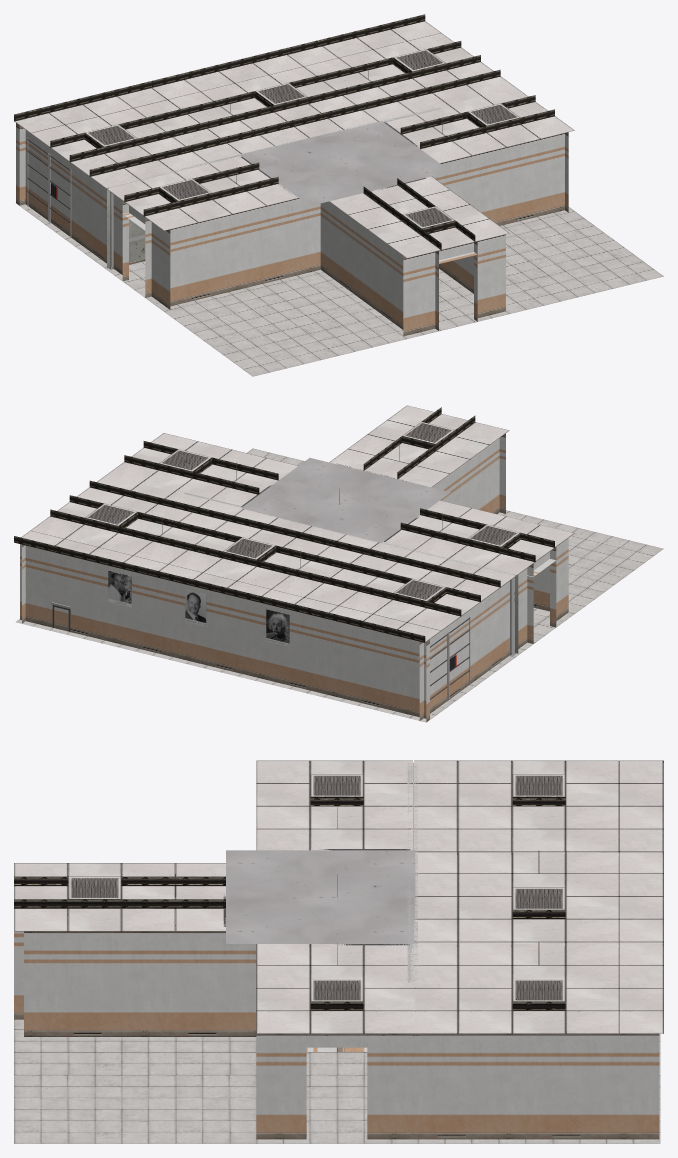
The model's file is OZ_room3_offices.obj.
3 renders of one model, top to bottom at view 1: azimuth 30°, elevation 25°; view 2: azimuth 150°, elevation 25°; view 3: azimuth 270°, elevation 25°, orthographic. The views are drawn at different scales.
Visible parts, largest first — view 1: room3offices_opt; view 2: room3offices_opt; view 3: room3offices_opt.
Part boxes in pixels (bbox=[...]): room3offices_opt: bbox=[14, 14, 663, 376]; room3offices_opt: bbox=[14, 405, 663, 722]; room3offices_opt: bbox=[14, 760, 663, 1143].
Size of the model in its own units: 20.48 by 4.65 by 20.6.
14 materials, 13 textured.
